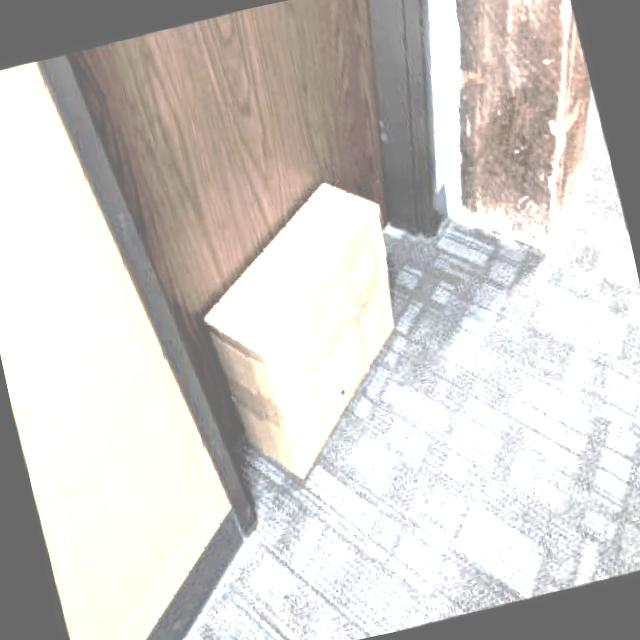Box: (170, 160, 445, 501)
